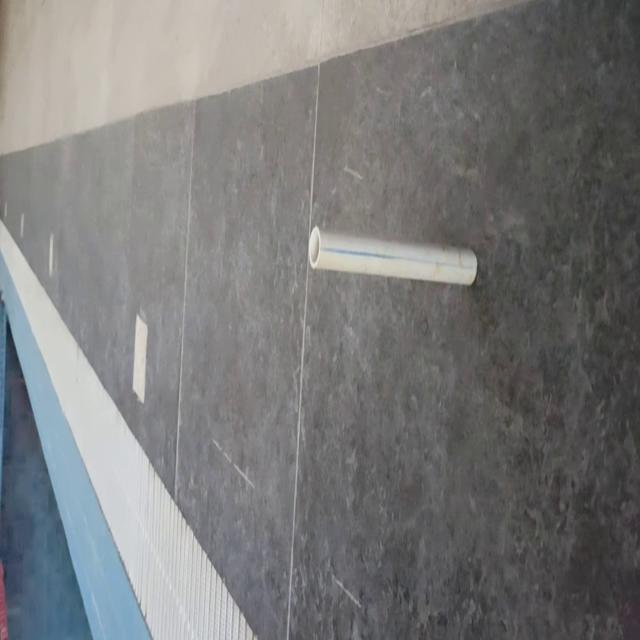Cube: (308, 223, 478, 287)
